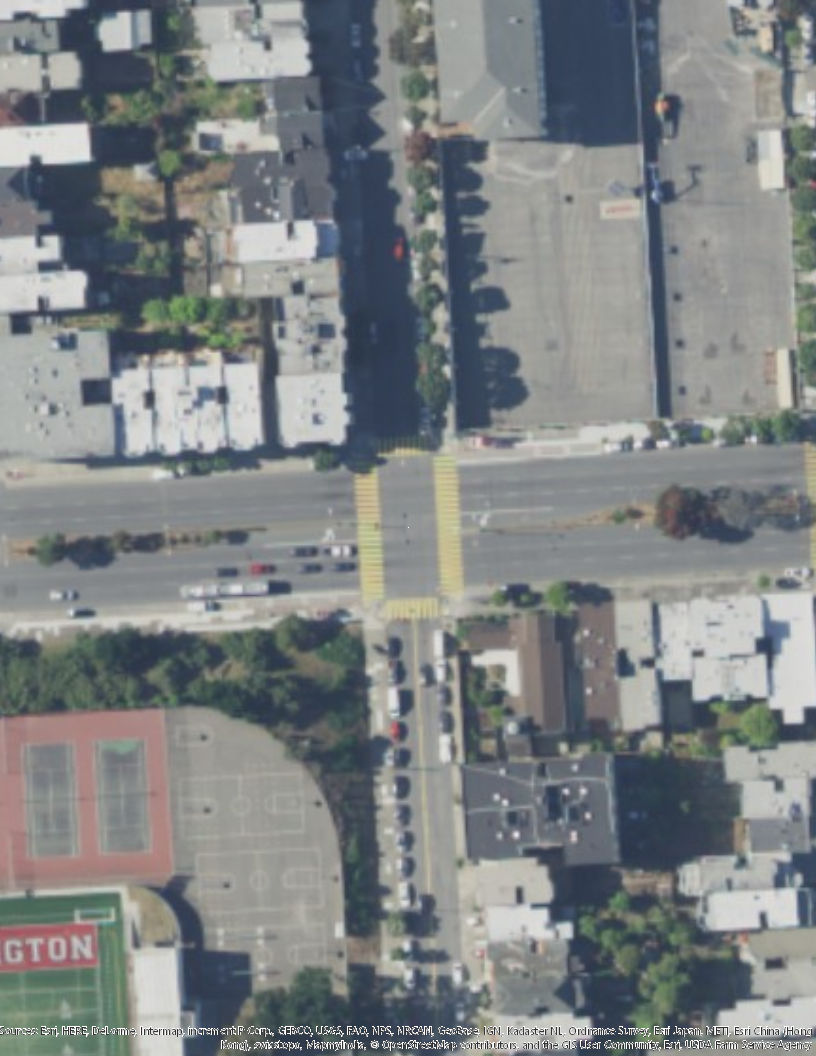zebracross: (430, 459, 468, 597), (352, 461, 384, 601), (803, 440, 816, 565), (380, 598, 441, 622), (370, 437, 435, 459)
